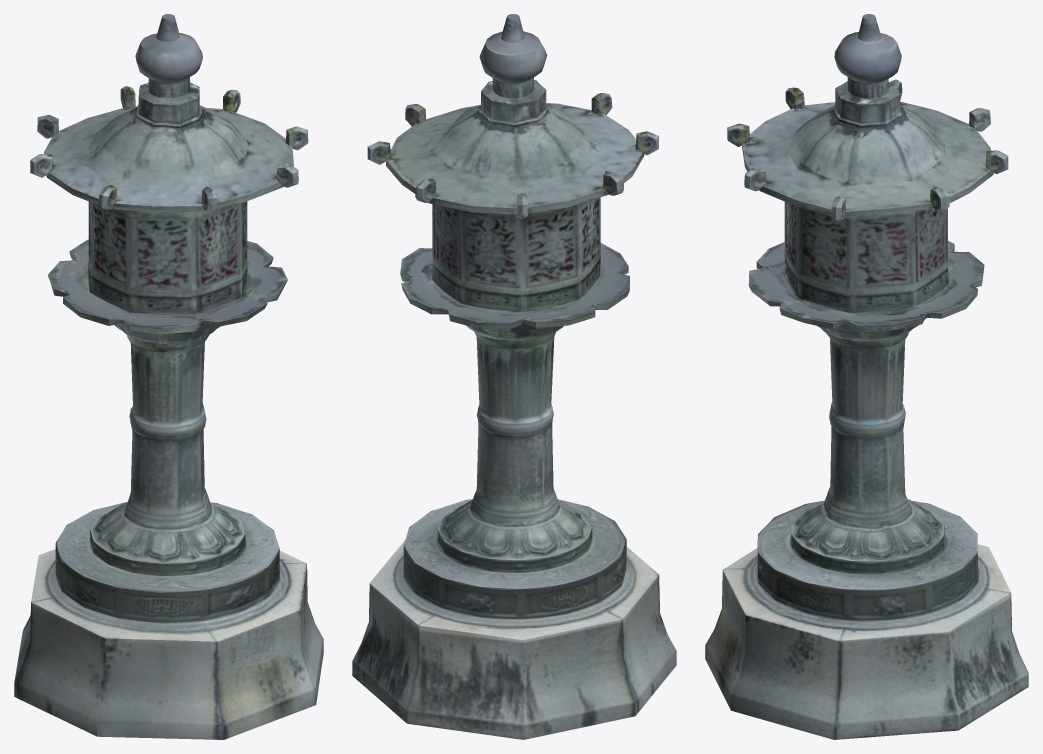
File: denlong.glb
3 views of the same model, side by side, from view 1: azimuth 30°, elevation 25°; view 2: azimuth 150°, elevation 25°; view 3: azimuth 270°, elevation 25° (orthographic).
Visible parts, largest first — view 1: Model; view 2: Model; view 3: Model.
Boxes of the visible parts, x1,y1,x2,y2 form: Model: (14, 14, 323, 739); Model: (352, 14, 676, 739); Model: (705, 14, 1028, 739).
Bounding box in the file's own units: 0.7401 × 1.69 × 0.7517.
1 material, 1 textured.
